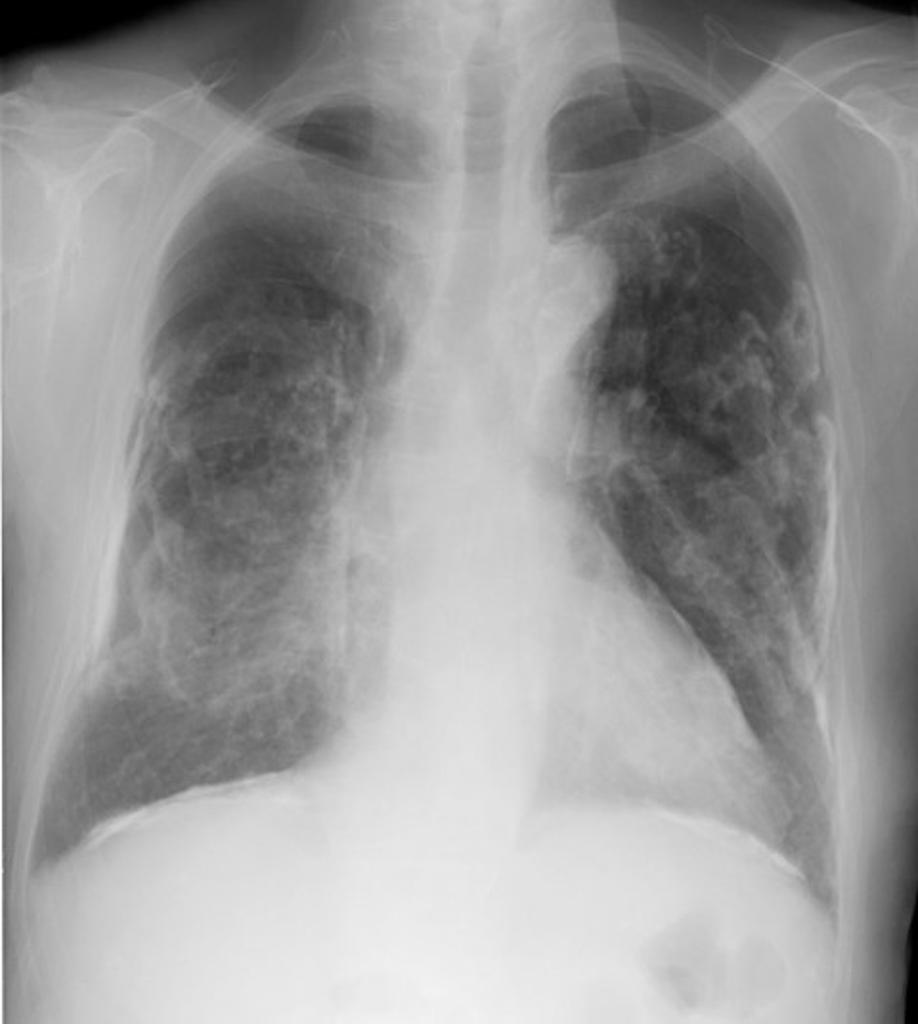cancer: (74, 195, 446, 782), (609, 213, 840, 615)
